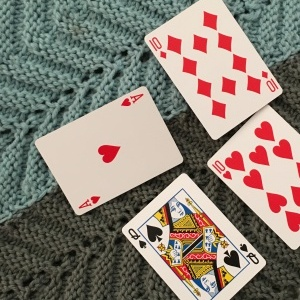card: (33, 85, 183, 215)
